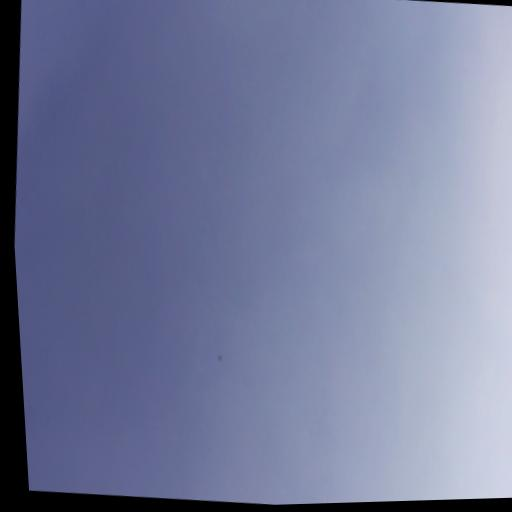drones: (213, 349, 226, 367)
